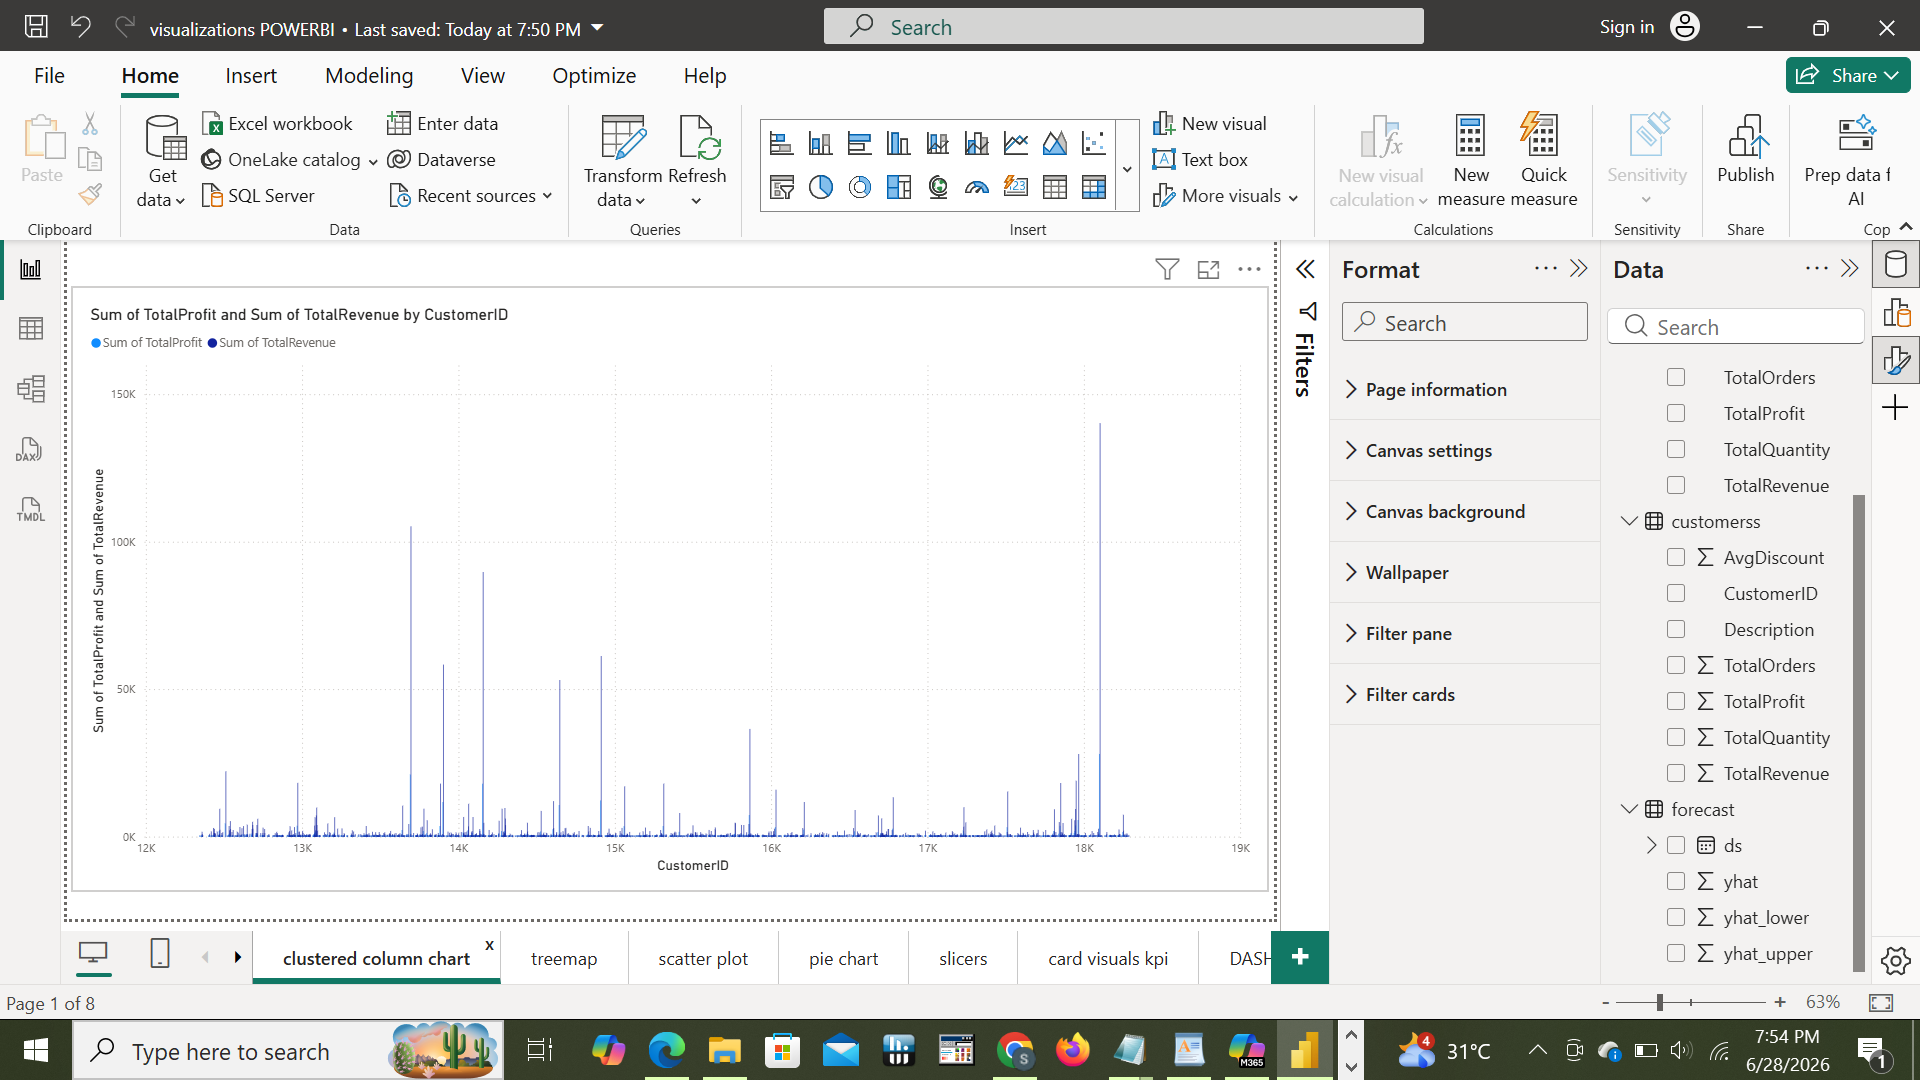

Layout of this report page (visuals, bound fields, positions):
{"tool":"powerbi","page":{"name":"clustered column chart","canvas":[1280,720],"ordinal":0},"visuals":[{"type":"clusteredColumnChart","fields":{"Category":["customerspend_powerbi.CustomerID"],"Y":["Sum(customerspend_powerbi.TotalProfit)","Sum(customerspend_powerbi.TotalRevenue)"]},"box":[4.5,49.2,1270.1,641],"z":0}]}

Visuals, with their boxes on the page's 1280x720 design canvas (x1, y1, x2, y2). These are canvas units, not pixel positions in the 1920x1080 screenshot, which may show the page scaled, cropped or inside an application window:
clusteredColumnChart - customerspend_powerbi.CustomerID x Sum(customerspend_powerbi.TotalProfit): bbox(4, 49, 1275, 690)
